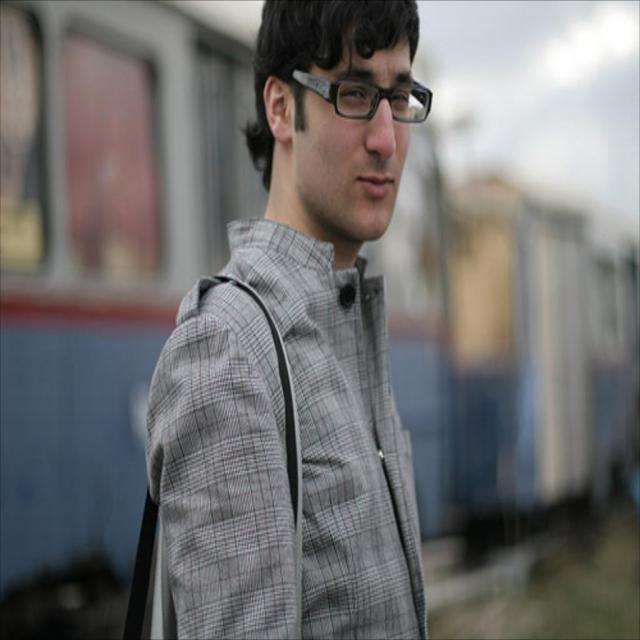closed-mouth: (354, 163, 396, 202)
